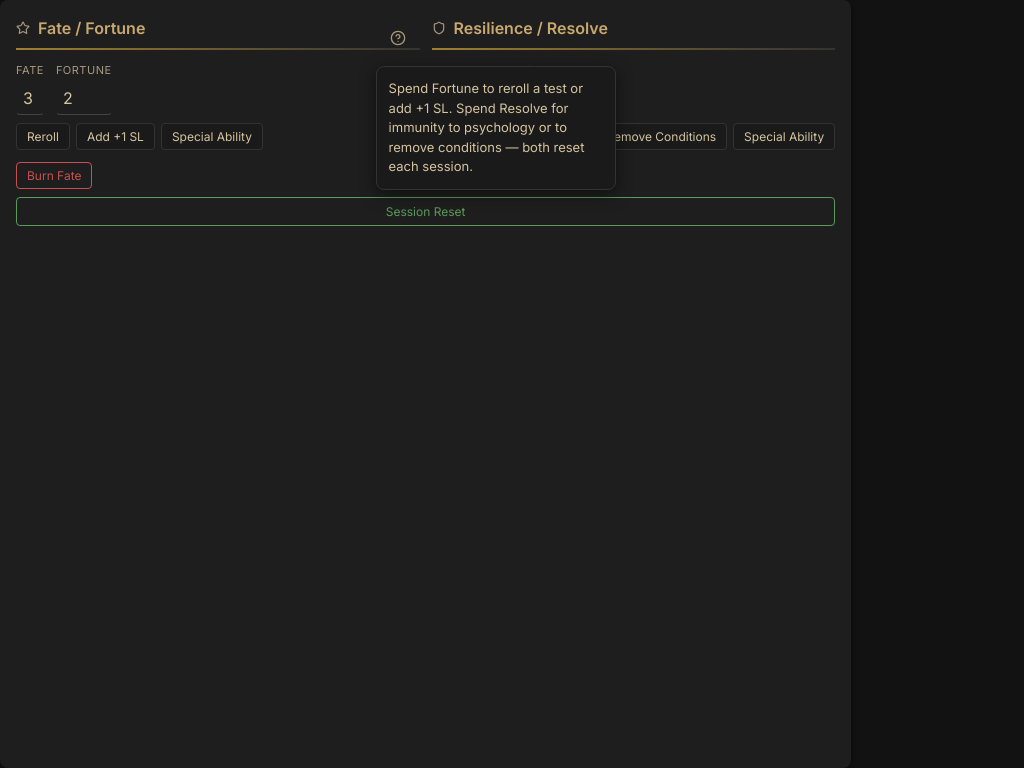
Test: FortuneResolvePanel — Burn Fate › clicking "Burn Fate" opens a confirmation dialog
What coordinates should you click on to do the following:
click the button "Burn Fate"
I would click on:
 (54, 175)
Its box is [16,162,92,188].
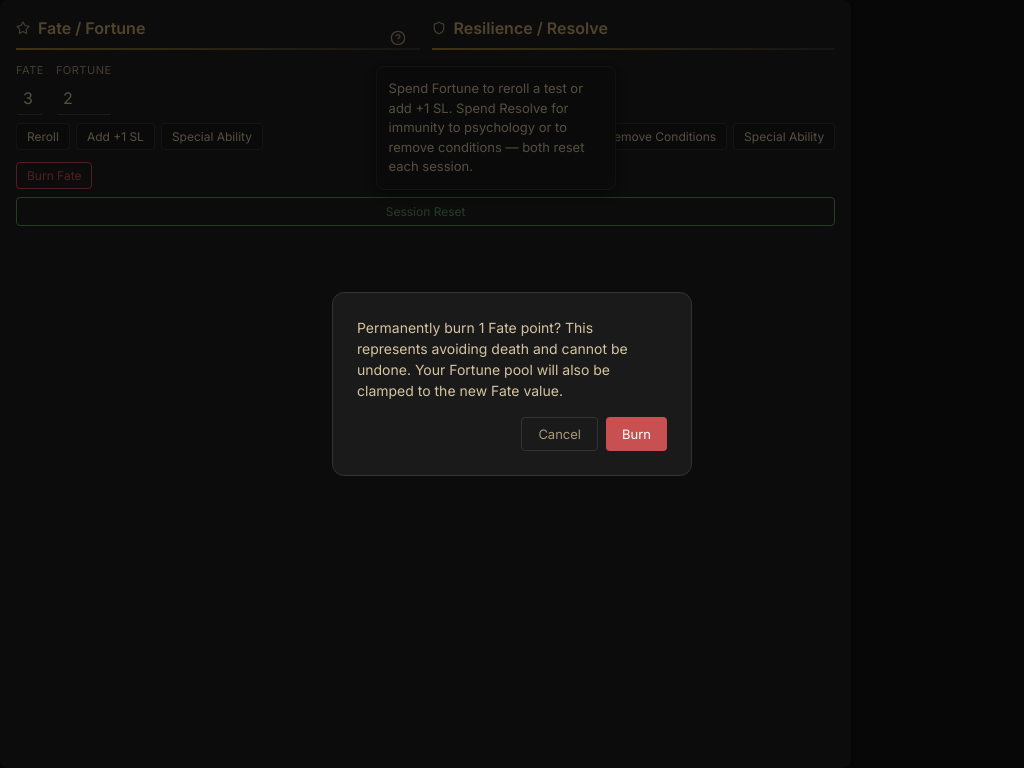
Expected: the dialog is shown
Expected: the text "Permanently burn 1 Fate point" is shown, [357,319,628,399]
